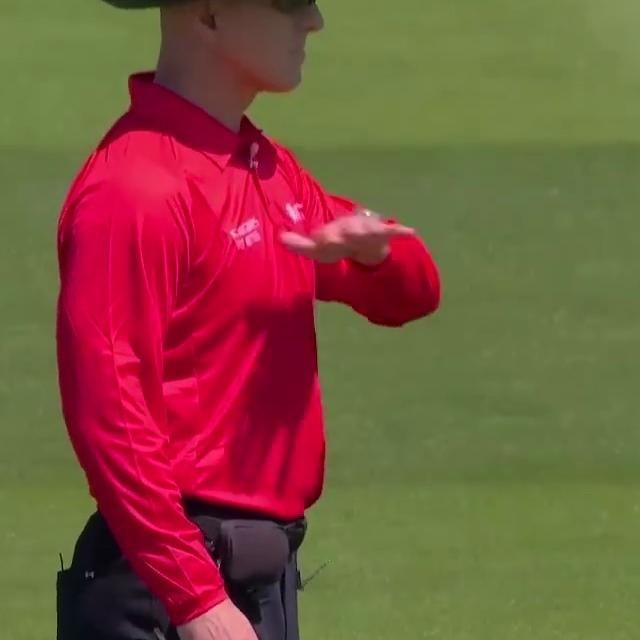umpire: (3, 0, 462, 640)
